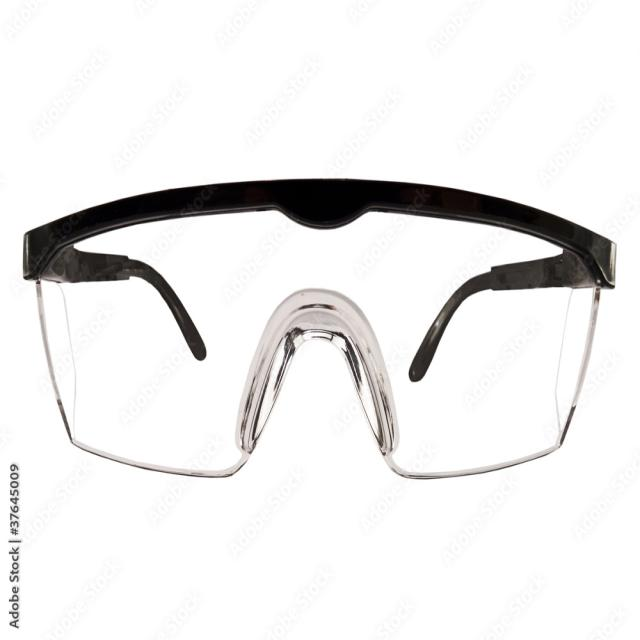Goggles: (5, 161, 636, 492)
